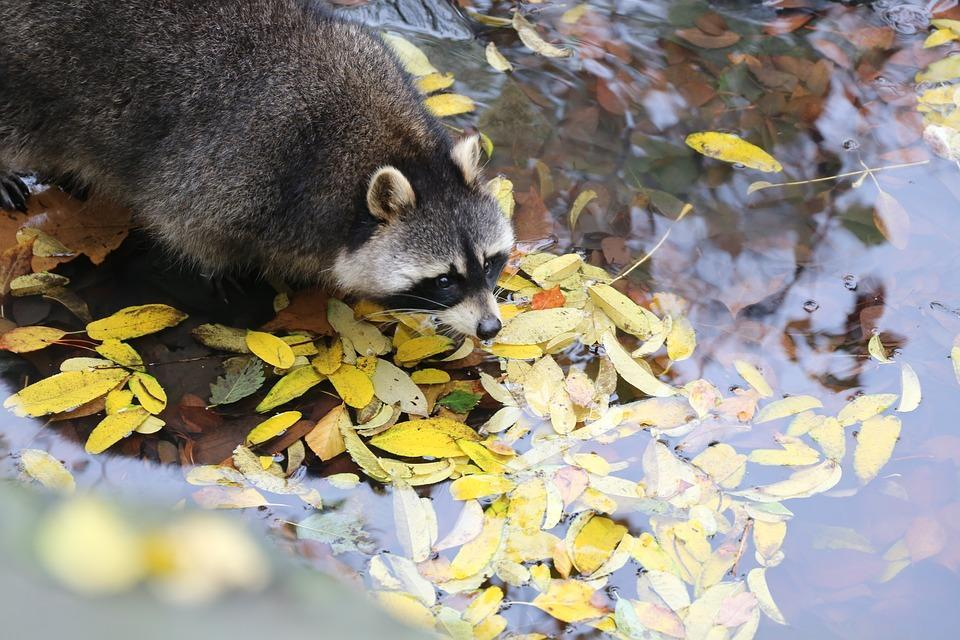raccoon: (1, 0, 520, 346)
